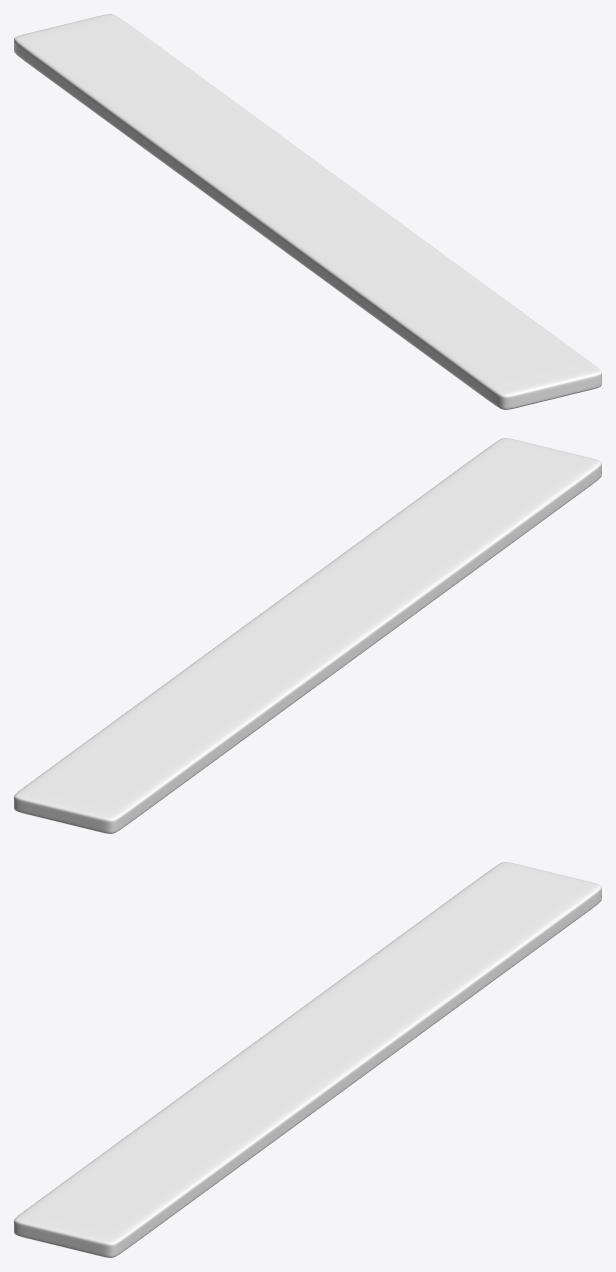
File: 2_space.fbx
3 renders of one model, top to bottom at view 1: azimuth 30°, elevation 25°; view 2: azimuth 150°, elevation 25°; view 3: azimuth 330°, elevation 25°, orthographic.
Parts seen in each view (by area): view 1: 立方体; view 2: 立方体; view 3: 立方体.
Boxes of the visible parts, x1,y1,x2,y2 form: 立方体: (14,14,601,409); 立方体: (14,438,601,833); 立方体: (14,862,601,1257).
Size of the model in its own units: 200 by 30 by 1650.
Materials: 1 (1 with a texture image).
